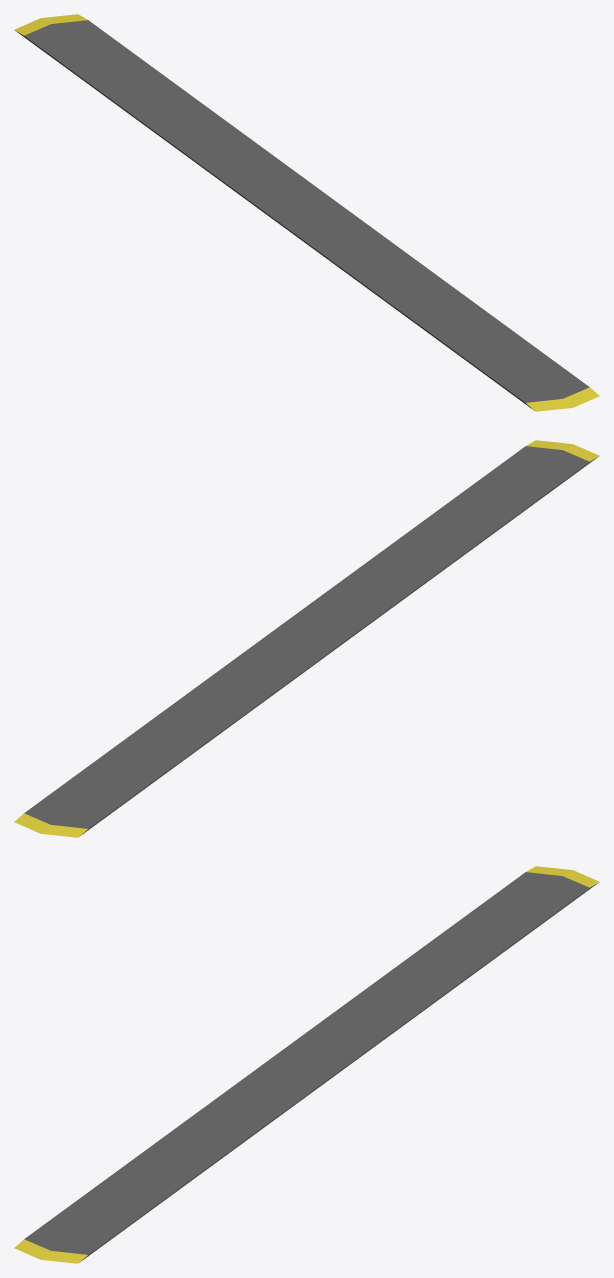
Rendered from Acera_10.fbx.
The picture shows the model from 3 angles, top to bottom: view 1: azimuth 30°, elevation 25°; view 2: azimuth 150°, elevation 25°; view 3: azimuth 330°, elevation 25°; orthographic projection.
Parts seen in each view (by area): view 1: Cubo; view 2: Cubo; view 3: Cubo.
Part boxes in pixels (x1,y1,x2,y2): Cubo: (14, 14, 599, 411); Cubo: (14, 440, 599, 837); Cubo: (14, 866, 599, 1263).
Size of the model in its own units: 900 by 20 by 12925.
